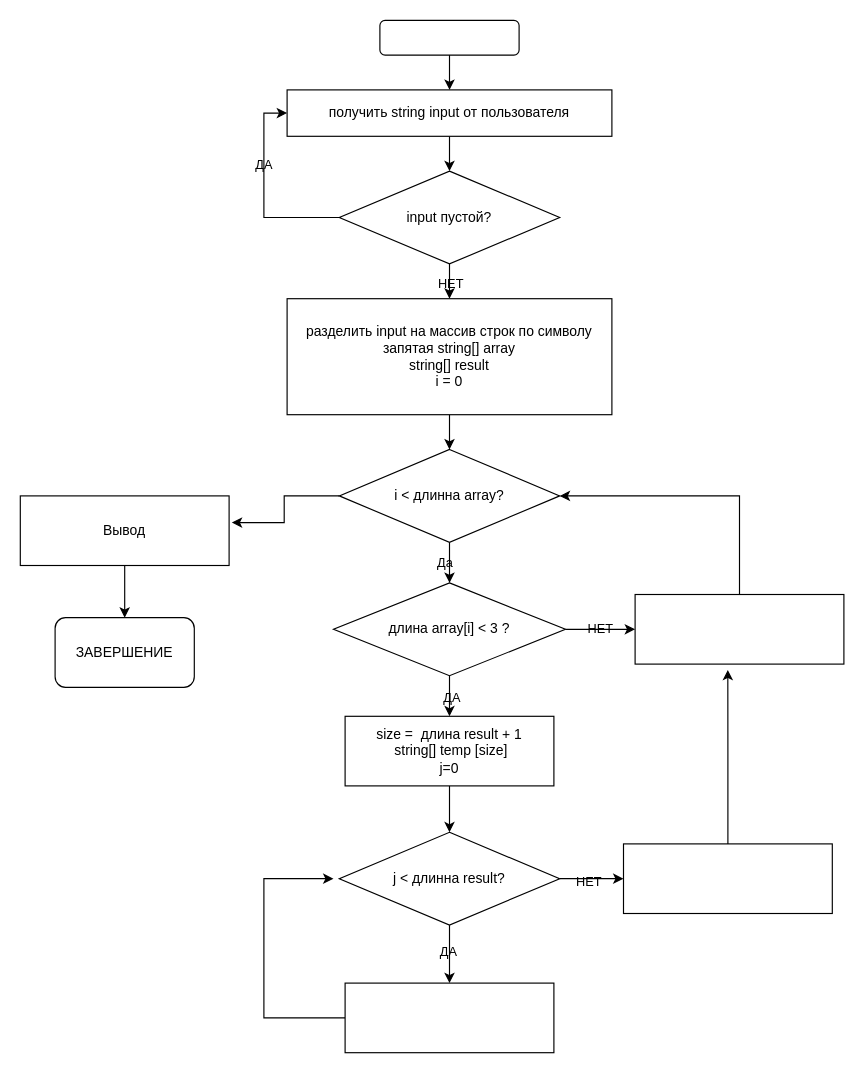
Some shapes in this 864 by 1073 pixel diagram are drawn without their labels. The centre of each missing label's shape, as x and y in pixels:
i = i +1: point 739,628
temp[j] = result[j] j = j +1: point 449,1017
temp[size - 1] = array[i] result = temp: point 727,878
СТАРТ: point 449,37
